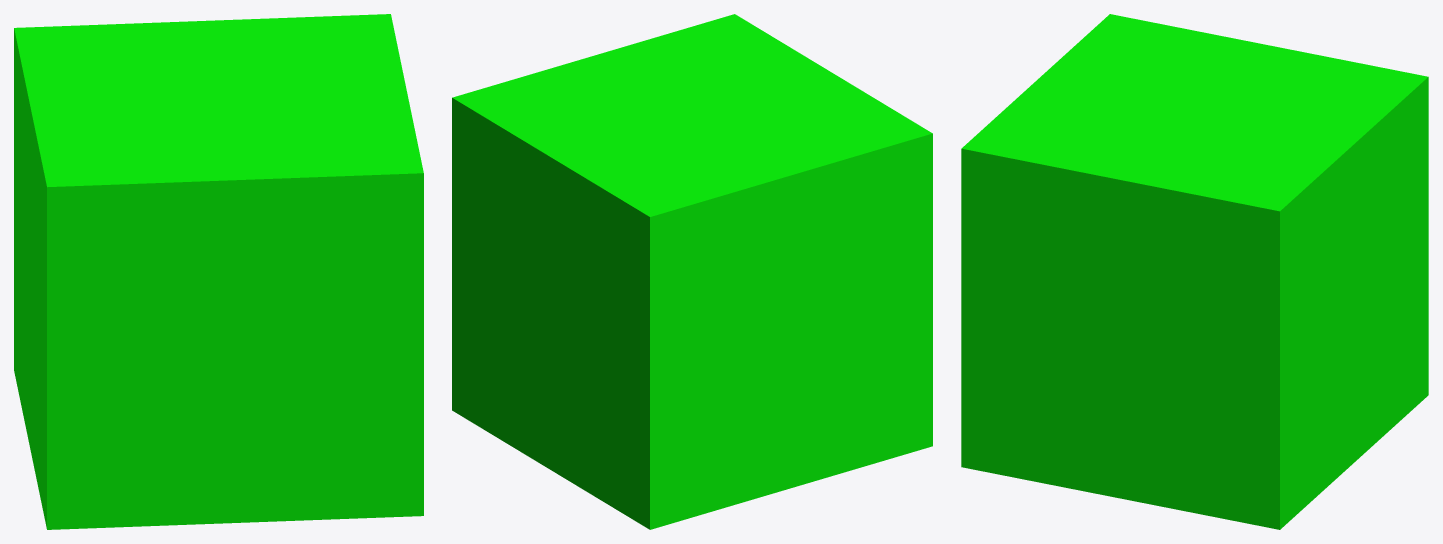
Rendered from GreenCube00-0622.FBX.
3 views of the same model, side by side, from view 1: azimuth 30°, elevation 25°; view 2: azimuth 150°, elevation 25°; view 3: azimuth 270°, elevation 25° (orthographic). The views are drawn at different scales.
Parts seen in each view (by area): view 1: GreenCube00; view 2: GreenCube00; view 3: GreenCube00.
Part boxes in pixels (left/top/right/bottom): GreenCube00: left=14, top=14, right=423, bottom=529; GreenCube00: left=452, top=14, right=932, bottom=529; GreenCube00: left=961, top=14, right=1428, bottom=529.
Size of the model in its own units: 6.64 by 5 by 6.64.
